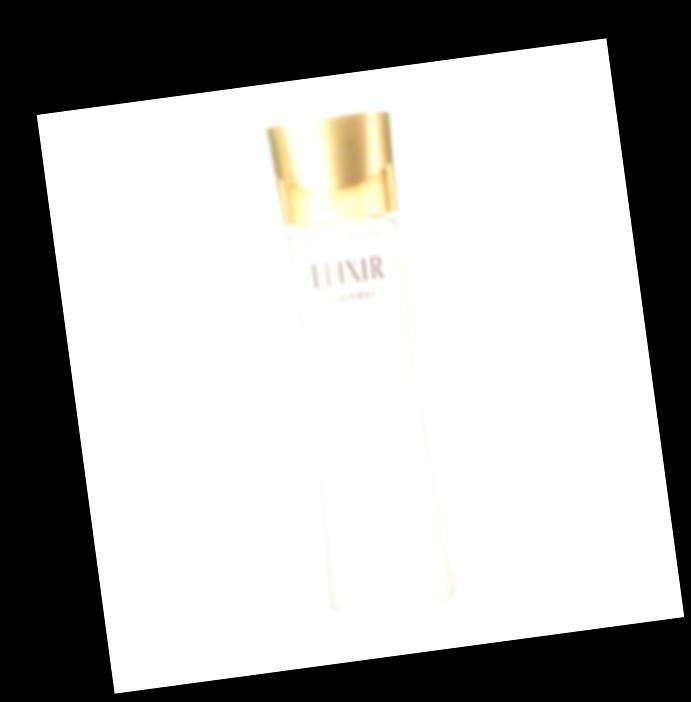cosmetic: (267, 107, 458, 618)
